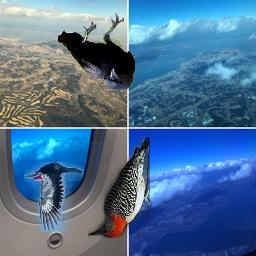Crow: (59, 14, 136, 91)
Woodpecker: (88, 138, 150, 239), (24, 162, 84, 232)
